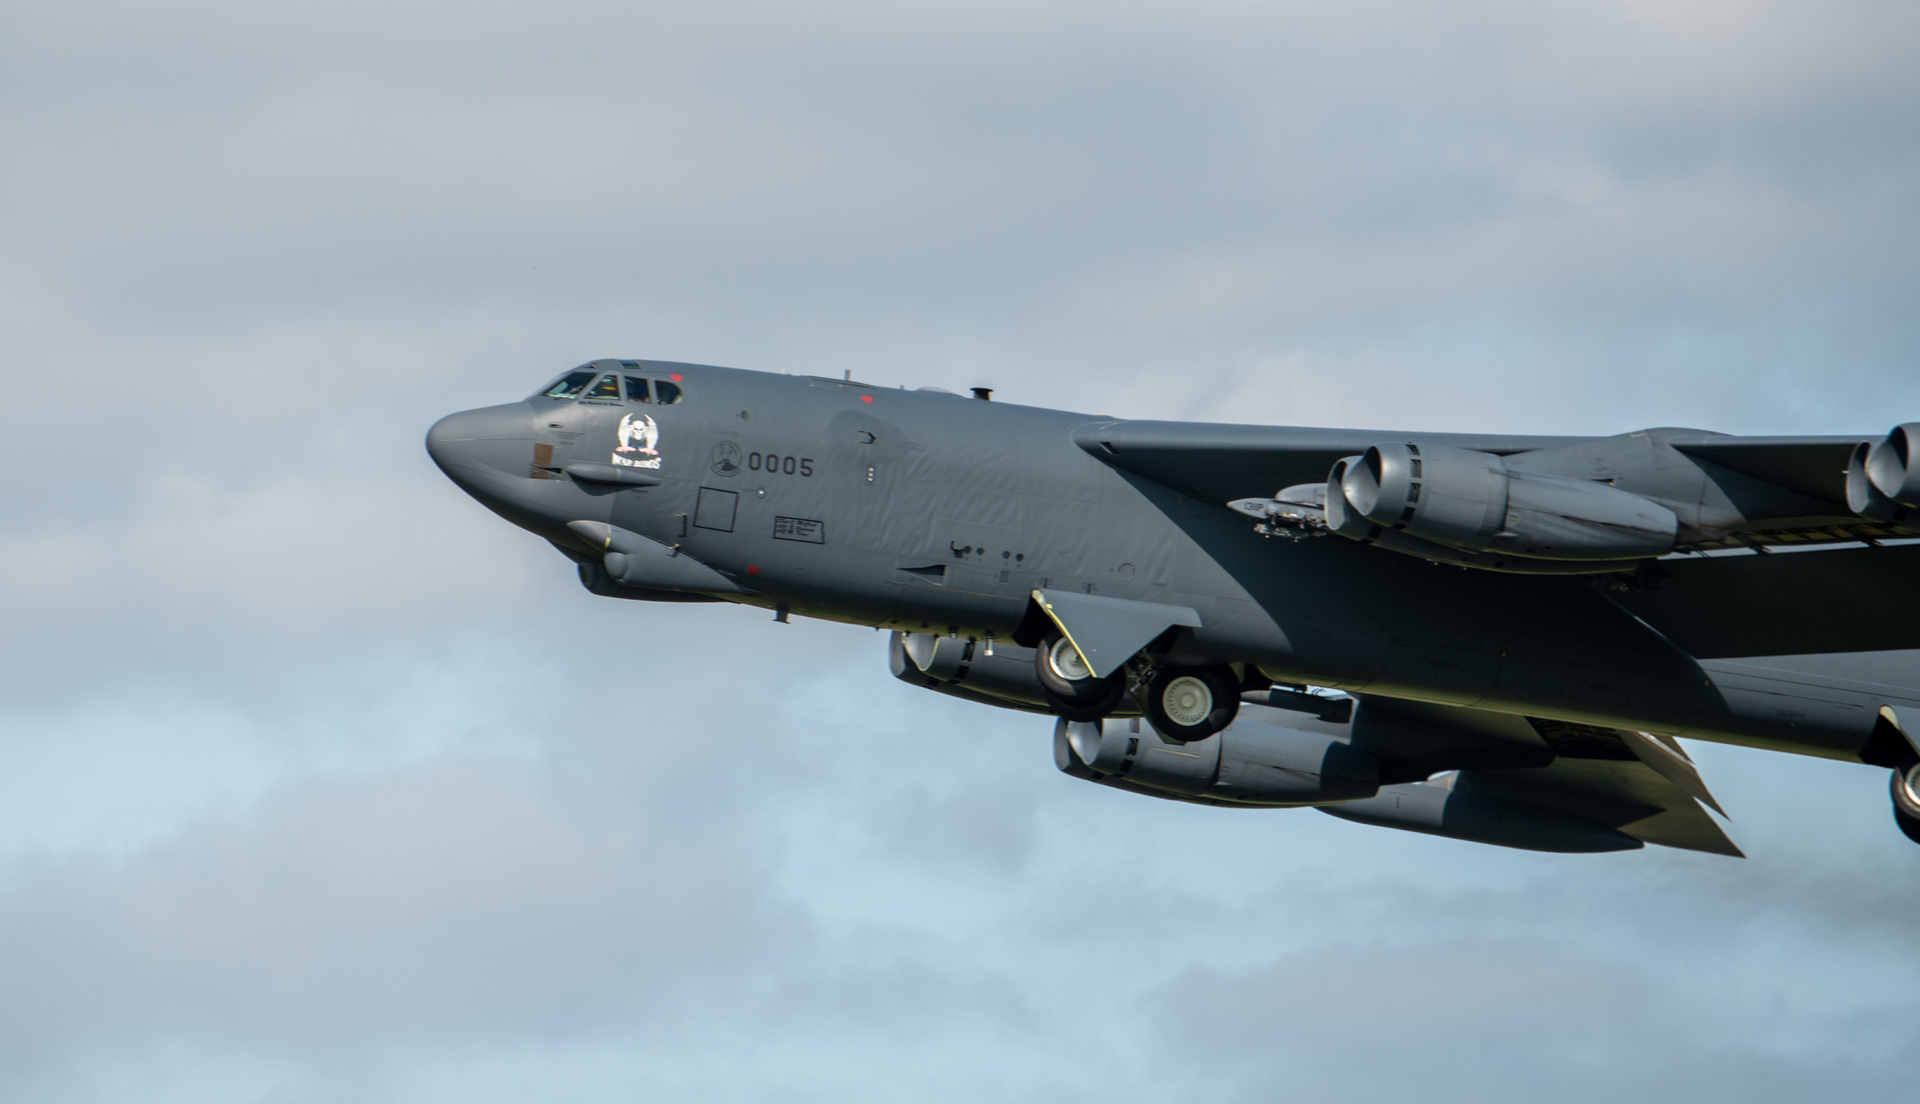B52: (425, 357, 1920, 857)
